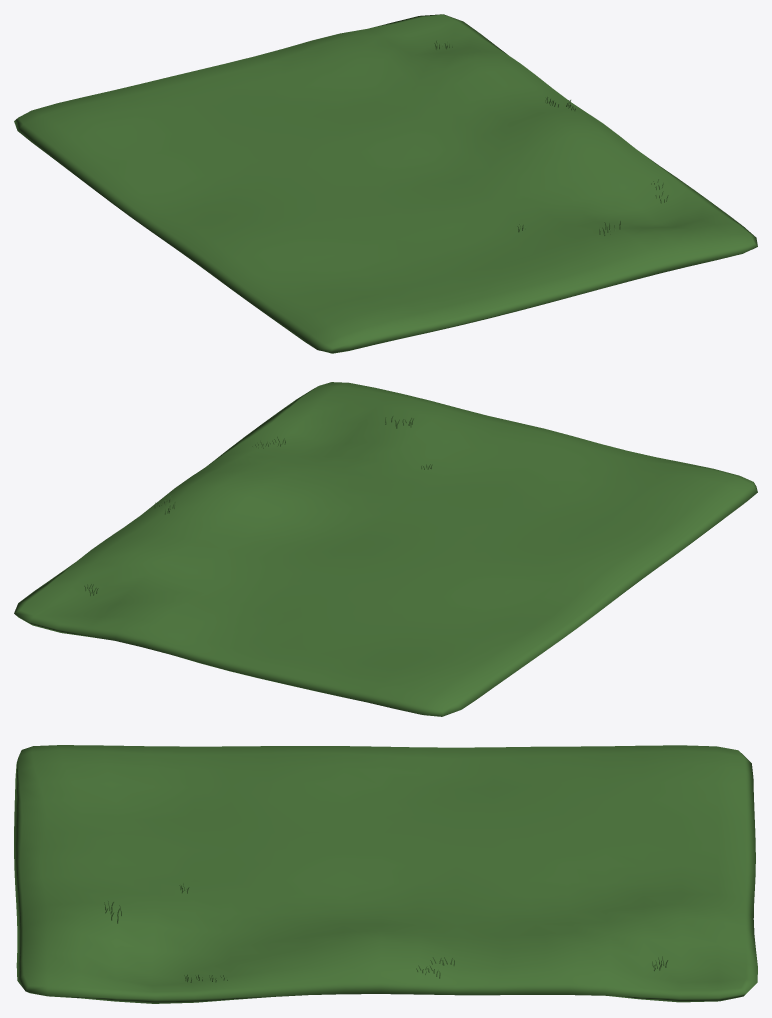
Rendered from Pasto.fbx.
The picture shows the model from 3 angles, top to bottom: view 1: azimuth 30°, elevation 25°; view 2: azimuth 150°, elevation 25°; view 3: azimuth 270°, elevation 25°; orthographic projection. The views are drawn at different scales.
Visible parts, largest first — view 1: Plane.005; view 2: Plane.005; view 3: Plane.005.
Boxes of the visible parts, x1=… form: Plane.005: x1=14, y1=14, x2=757, y2=353; Plane.005: x1=14, y1=382, x2=757, y2=716; Plane.005: x1=14, y1=745, x2=757, y2=1003.
Bounding box in the file's own units: 3548 × 326 × 4455.
